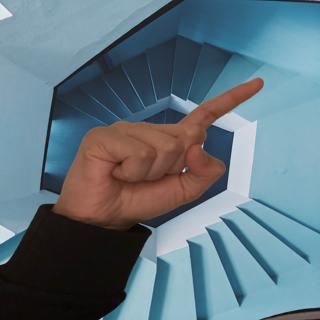WHY: (48, 70, 272, 230)
